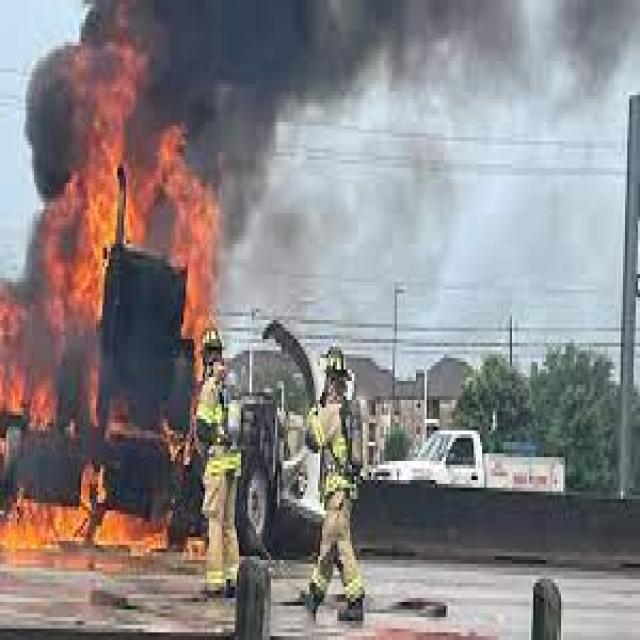fire: (2, 198, 107, 419), (128, 130, 211, 358), (2, 480, 169, 571), (64, 42, 137, 209)
smoke: (220, 4, 636, 316), (79, 4, 220, 129), (11, 23, 66, 202)
